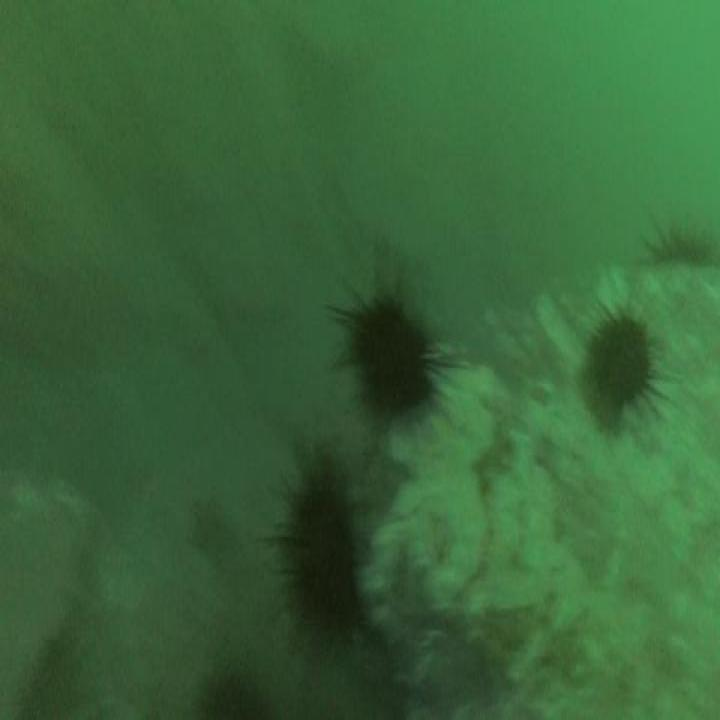echinus: (281, 478, 358, 646), (351, 297, 430, 412), (587, 307, 650, 409)
